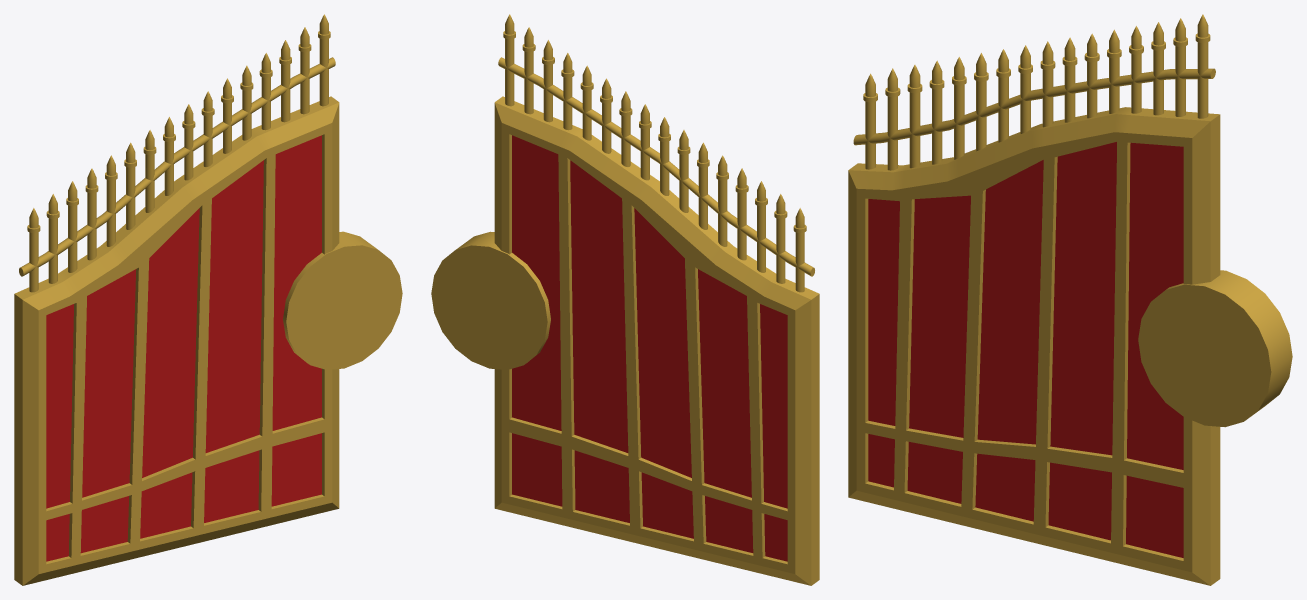
File: Gate.fbx
3 views of the same model, side by side, from view 1: azimuth 30°, elevation 25°; view 2: azimuth 150°, elevation 25°; view 3: azimuth 330°, elevation 25° (orthographic). The views are drawn at different scales.
Parts seen in each view (by area): view 1: Gate, Spike1, Keyhole; view 2: Gate, Spike1, Keyhole; view 3: Gate, Spike1, Keyhole.
Boxes of the visible parts, box(x1,y1,x2,y2) form: Gate: box(14, 96, 339, 585); Spike1: box(19, 14, 335, 292); Keyhole: box(283, 231, 402, 369); Gate: box(494, 96, 819, 585); Spike1: box(498, 14, 814, 292); Keyhole: box(431, 231, 550, 369); Gate: box(848, 107, 1220, 585); Spike1: box(853, 14, 1215, 170); Keyhole: box(1138, 270, 1292, 427).
Size of the model in its own units: 4.84 by 6.1 by 0.4168.
